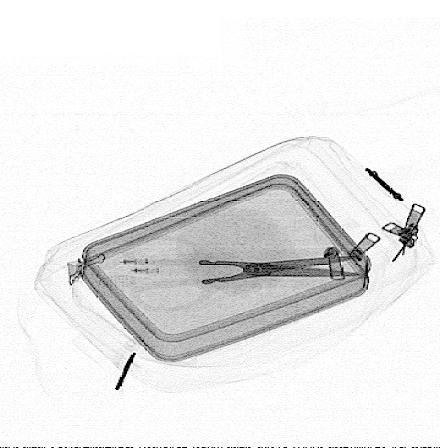Scissors: (123, 236, 369, 315)
